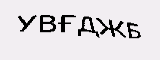Б: (126, 22, 143, 39)
В: (38, 14, 57, 33)
Д: (75, 15, 101, 39)
Ж: (97, 17, 127, 39)
У: (16, 15, 36, 33)
Ғ: (57, 14, 76, 34)
